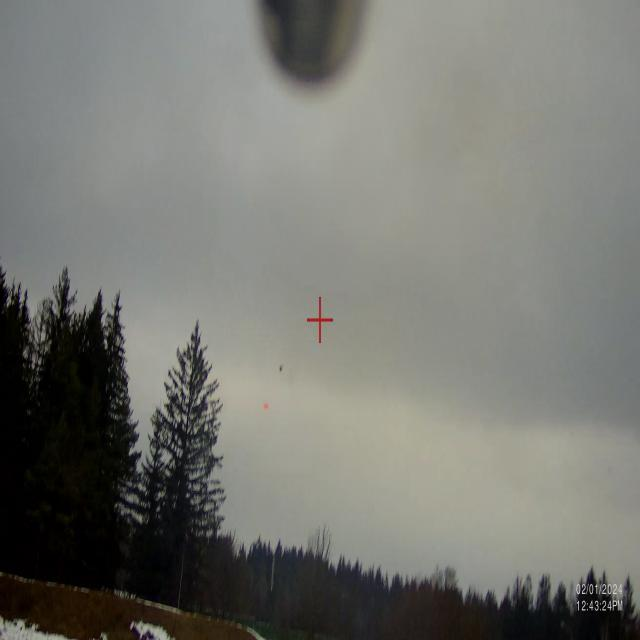entire: (260, 392, 270, 420)
